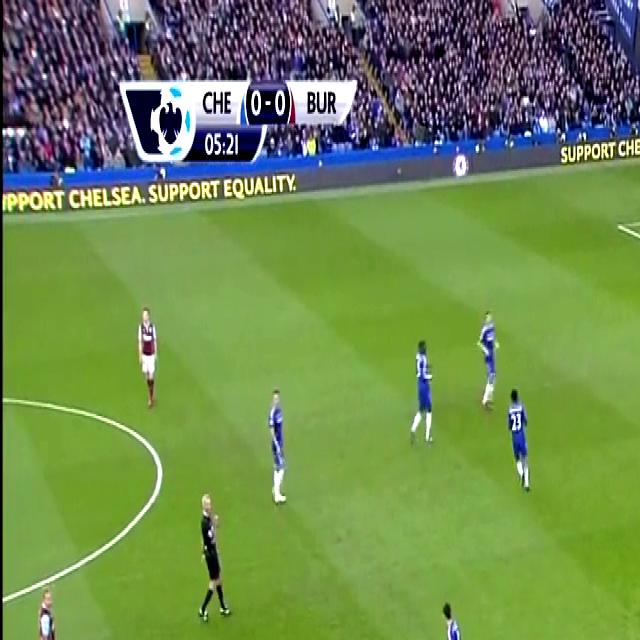referee: (181, 476, 243, 640)
soccer-player: (497, 374, 540, 520), (258, 382, 296, 526), (403, 322, 441, 452), (468, 294, 503, 417), (127, 306, 163, 411), (424, 588, 492, 640), (26, 579, 75, 640)
